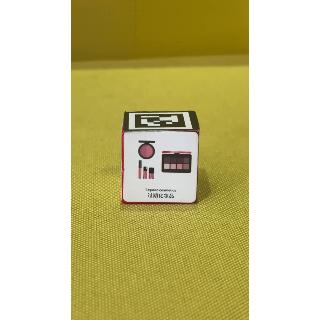Expired_Cosmetic: (124, 132, 197, 207)
